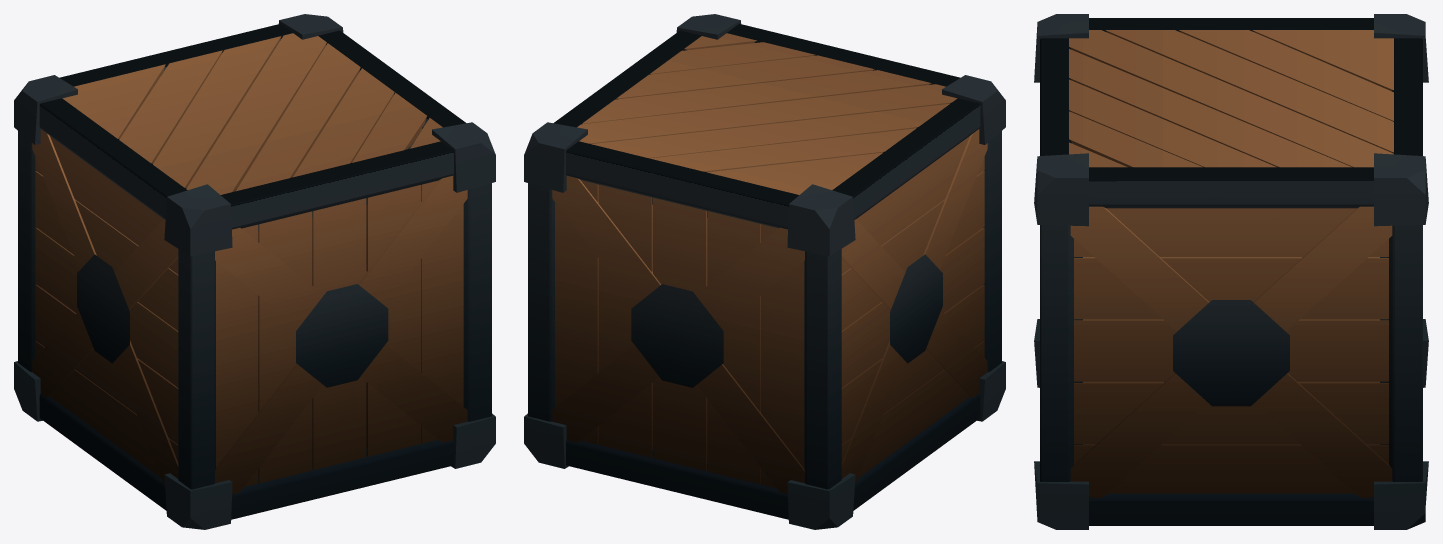
The model's file is Crate.fbx.
3 views of the same model, side by side, from view 1: azimuth 30°, elevation 25°; view 2: azimuth 150°, elevation 25°; view 3: azimuth 270°, elevation 25° (orthographic). The views are drawn at different scales.
Parts seen in each view (by area): view 1: Cube.006; view 2: Cube.006; view 3: Cube.006.
Boxes of the visible parts, x1,y1,x2,y2 form: Cube.006: (14,14,495,529); Cube.006: (524,14,1005,529); Cube.006: (1034,14,1428,529).
Size of the model in its own units: 212 by 212 by 212.
2 materials, 2 textured.
